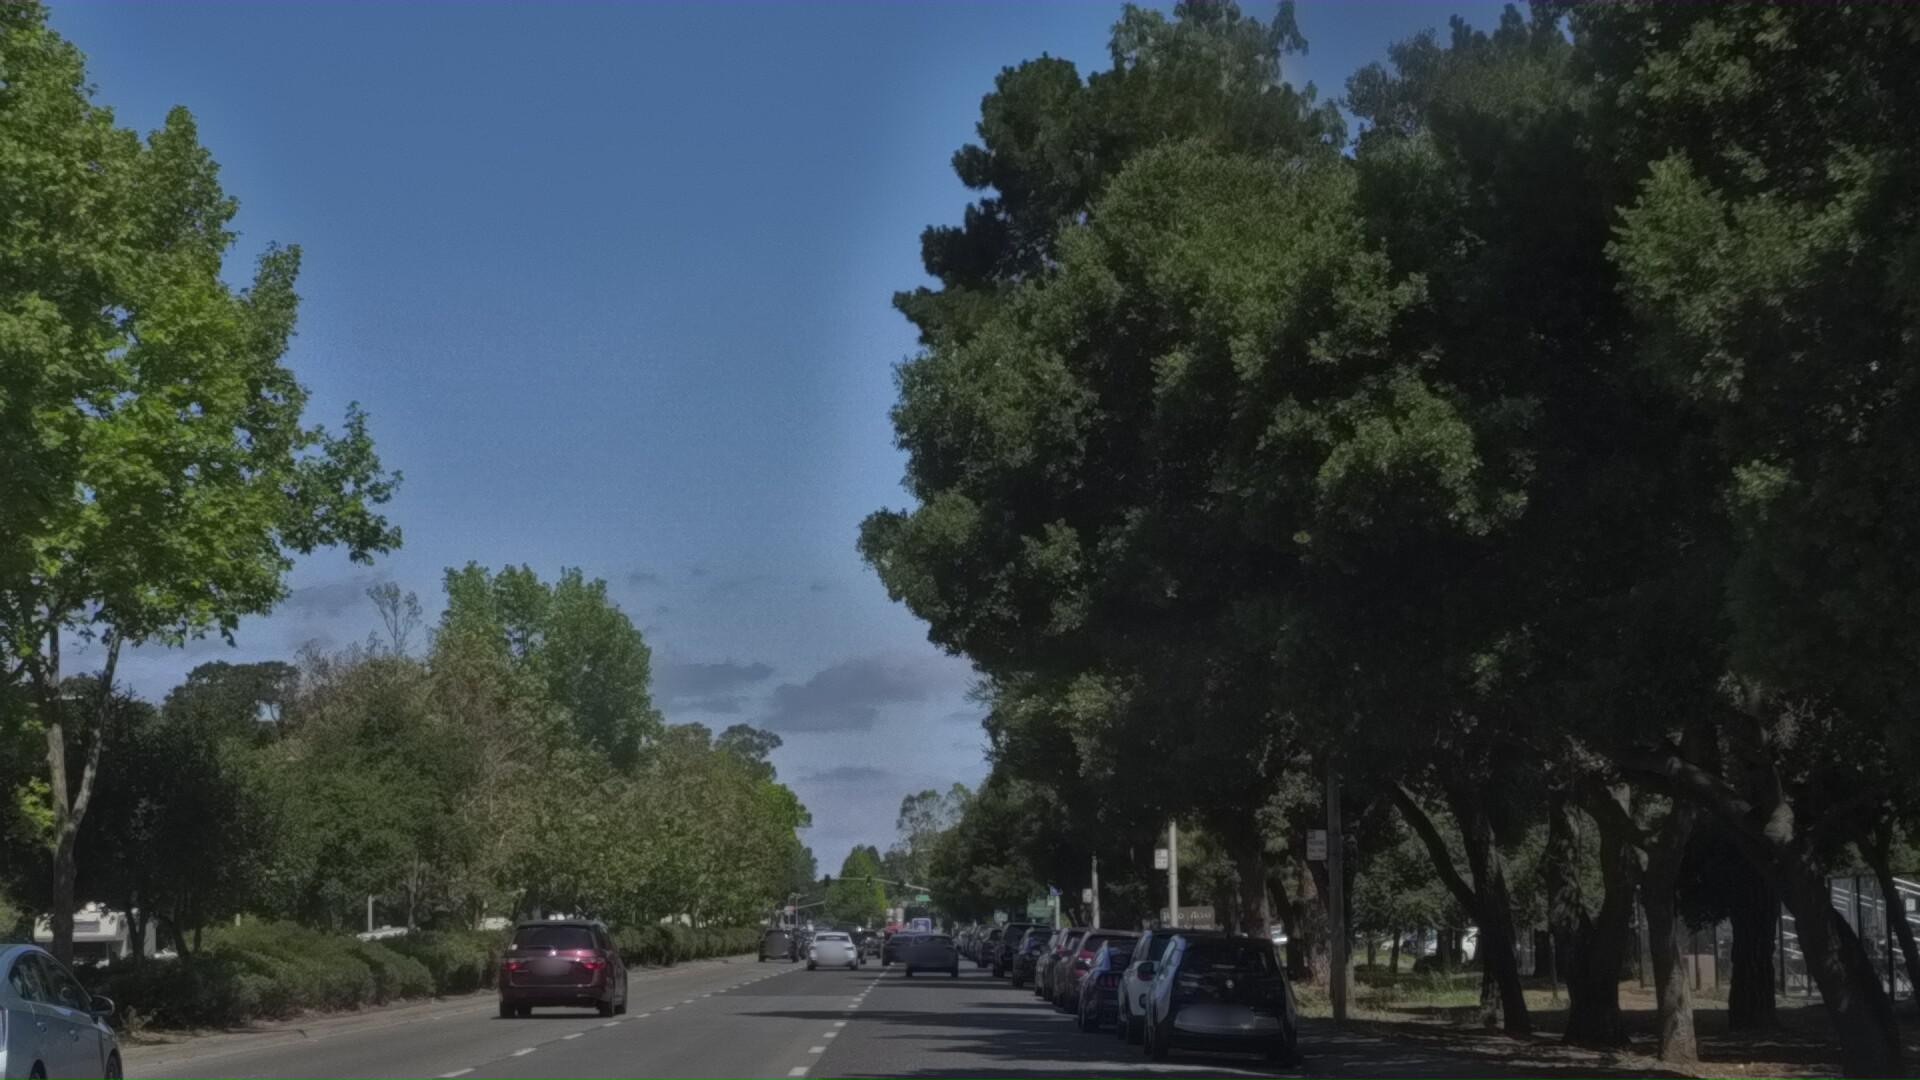car: (1149, 942, 1313, 1080), (1121, 931, 1274, 1073), (0, 968, 160, 1080), (502, 949, 641, 1073), (1079, 953, 1218, 1063), (1069, 938, 1176, 1043)
